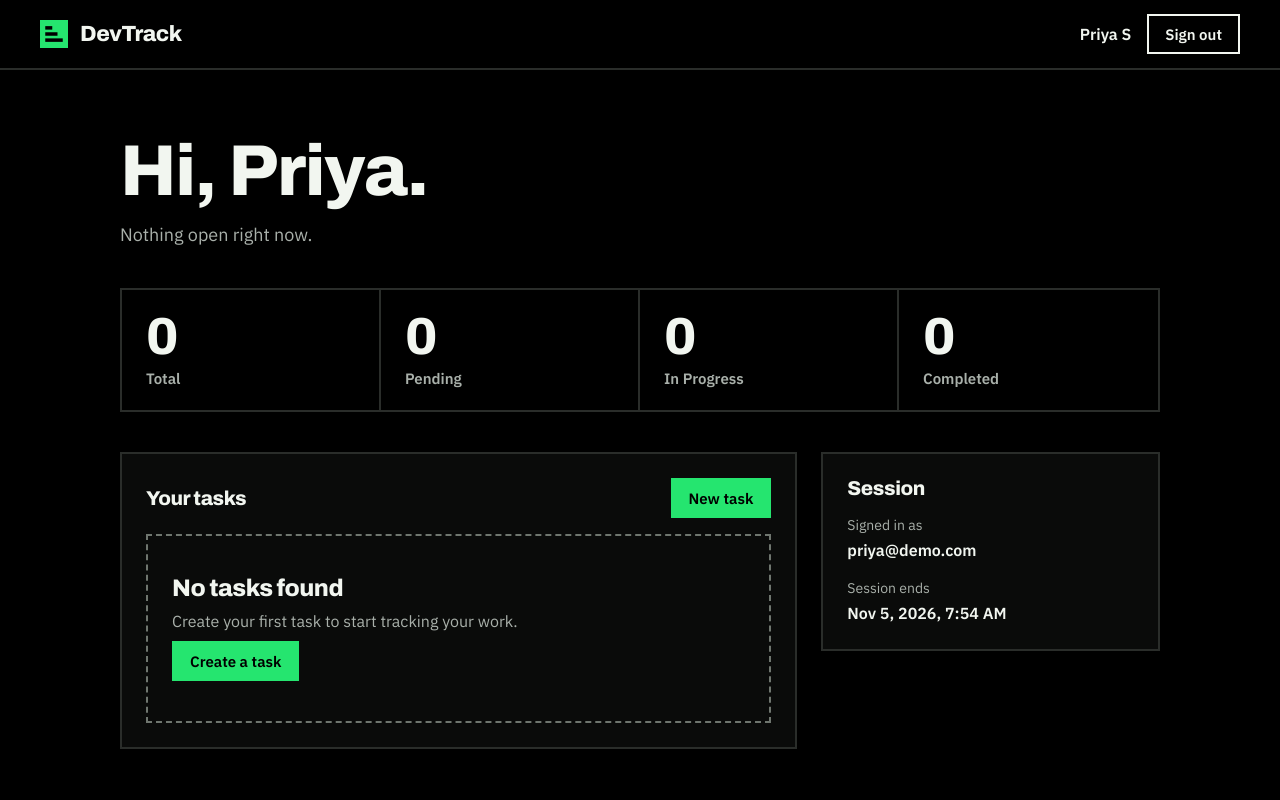
Task form: status and priority selectors (FR-08, FR-09) › new tasks default to Pending and Medium and list every supported value
The image size is (1280, 800).
Expected: the heading "Hi, Priya." is shown, [120,132,428,210]
Step 1. Click the button "New task" → point(721, 498), box [670,478,771,518]
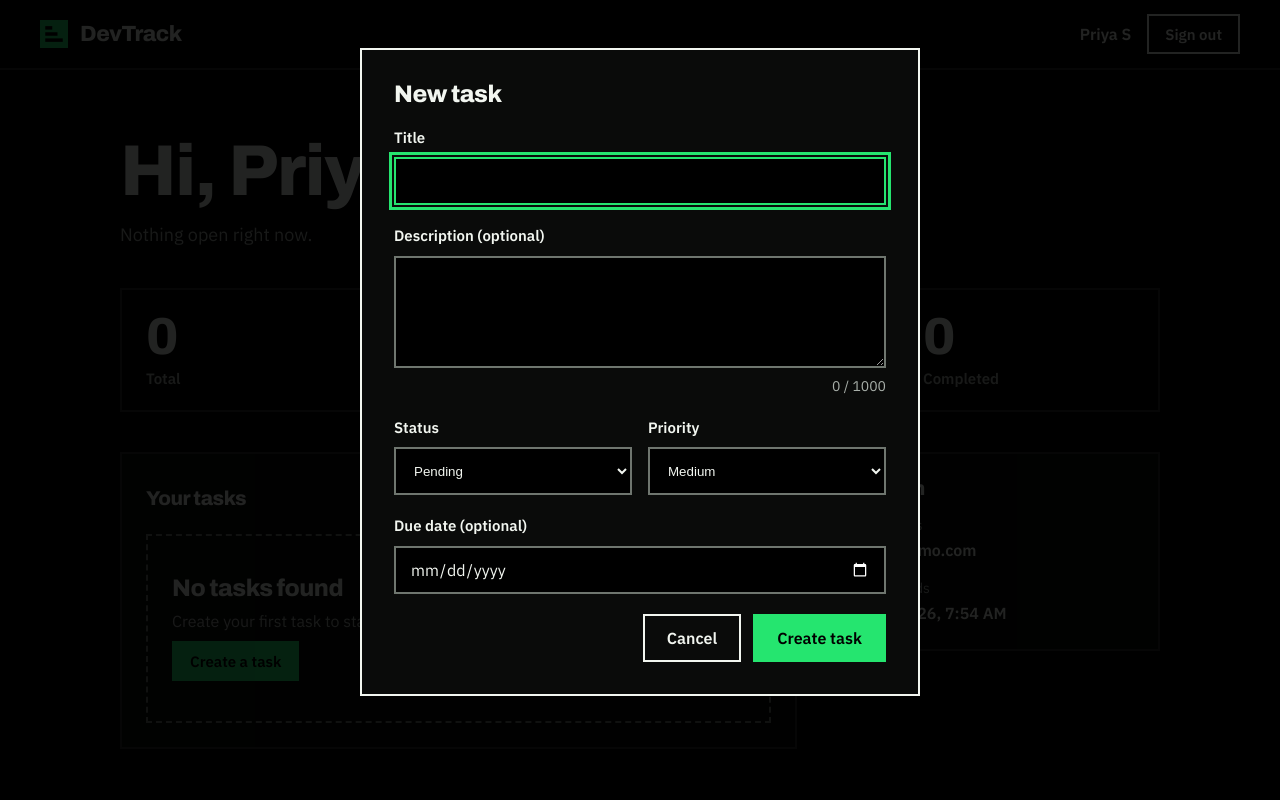
Now the dropdown labelled "Status" shows "Pending", box [394,448,632,496]
Now the dropdown labelled "Priority" shows "Medium", box [648,448,886,496]
